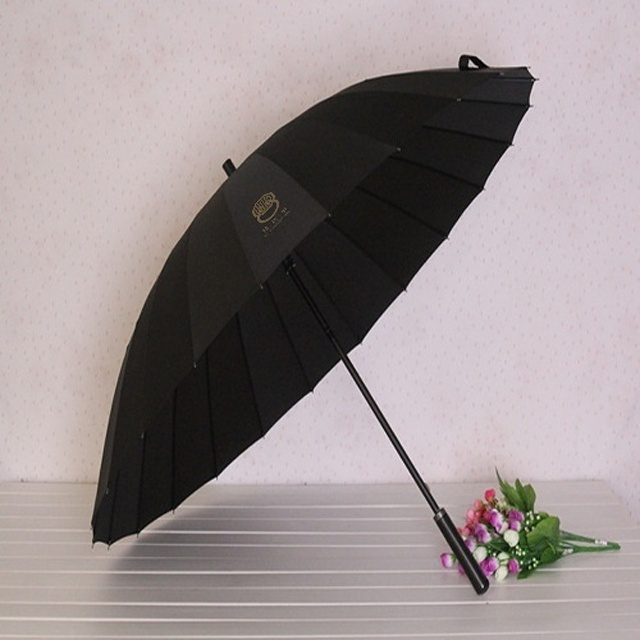umbrella: (89, 56, 541, 597)
